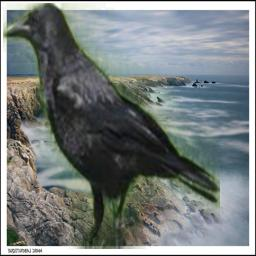Crow: (3, 3, 220, 249)
